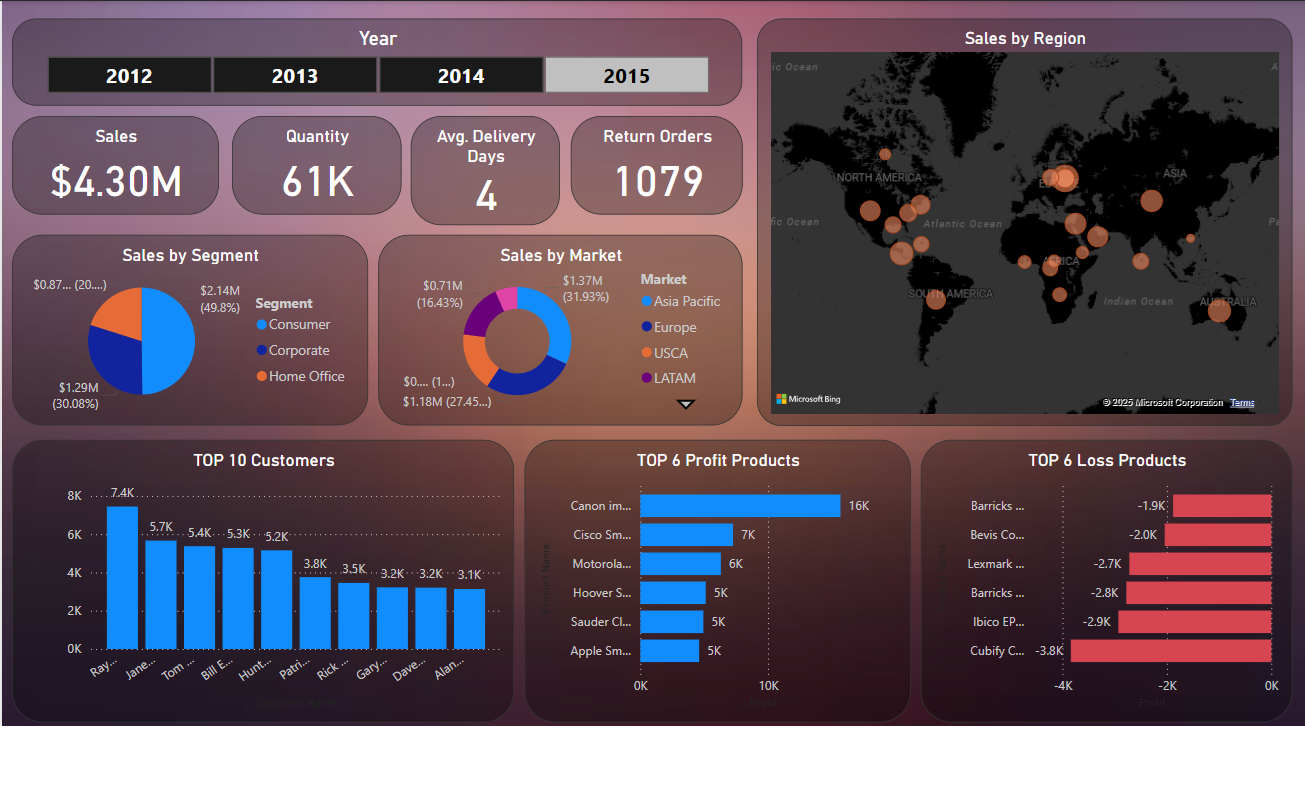

The page's visual inventory and layout, read from the dashboard file:
{"tool":"powerbi","page":{"name":"Overall","canvas":[1280,720],"ordinal":0},"visuals":[{"type":"card","title":"Sales","fields":{"Values":["Sum(Orders.Sales)"]},"box":[9.9,112.7,202.8,97.2],"z":0},{"type":"card","title":"Quantity","fields":{"Values":["Sum(Orders.Quantity)"]},"box":[225.4,112.7,166.2,97.2],"z":1000},{"type":"card","title":"Avg. Delivery Days","fields":{"Values":["Sum(Orders.Delivery Days)"]},"box":[401.4,112.7,146.5,107],"z":2000},{"type":"slicer","title":"Year","fields":{"Values":["Orders.Year"]},"box":[9.9,16.9,716.9,85.9],"z":3000},{"type":"card","title":"Return Orders","fields":{"Values":["Min(Returns.Return Orders)"]},"box":[557.7,112.7,169,97.2],"z":4000},{"type":"map","fields":{"Category":["Orders.Region"],"Size":["Sum(Orders.Sales)"]},"box":[740.8,16.9,525.4,400],"z":5000},{"type":"barChart","title":"TOP 6 Profit  Products","fields":{"Category":["Orders.Product Name"],"Y":["Sum(Orders.Profit)"]},"box":[512.7,431,378.9,277.5],"z":6000},{"type":"barChart","title":"TOP 6 Loss  Products","fields":{"Category":["Orders.Product Name"],"Y":["Sum(Orders.Profit)"]},"box":[901.4,431,364.8,277.5],"z":7000},{"type":"pieChart","fields":{"Category":["Orders.Segment"],"Y":["Sum(Orders.Sales)"]},"box":[9.9,229.6,349.3,187.3],"z":8000},{"type":"donutChart","fields":{"Y":["Sum(Orders.Sales)"],"Category":["Orders.Market"]},"box":[369,229.6,357.7,187.3],"z":9000},{"type":"columnChart","title":"TOP 10 Customers","fields":{"Y":["Sum(Orders.Profit)"],"Category":["Orders.Customer Name"]},"box":[9.9,431,493,277.5],"z":10000}]}

Visuals, with their boxes in screenshot pixels (x1, y1, x2, y2):
"Sales" card: (left=0, top=104, right=212, bottom=205)
"Quantity" card: (left=225, top=104, right=398, bottom=205)
"Avg. Delivery Days" card: (left=408, top=104, right=561, bottom=215)
"Year" slicer: (left=0, top=4, right=747, bottom=94)
"Return Orders" card: (left=571, top=104, right=747, bottom=205)
map - Orders.Region x Sum(Orders.Sales): (left=762, top=4, right=1304, bottom=421)
"TOP 6 Profit  Products" barChart: (left=524, top=436, right=919, bottom=725)
"TOP 6 Loss  Products" barChart: (left=929, top=436, right=1304, bottom=725)
pieChart - Orders.Segment x Sum(Orders.Sales): (left=0, top=226, right=364, bottom=421)
donutChart - Sum(Orders.Sales) x Orders.Market: (left=374, top=226, right=747, bottom=421)
"TOP 10 Customers" columnChart: (left=0, top=436, right=514, bottom=725)
